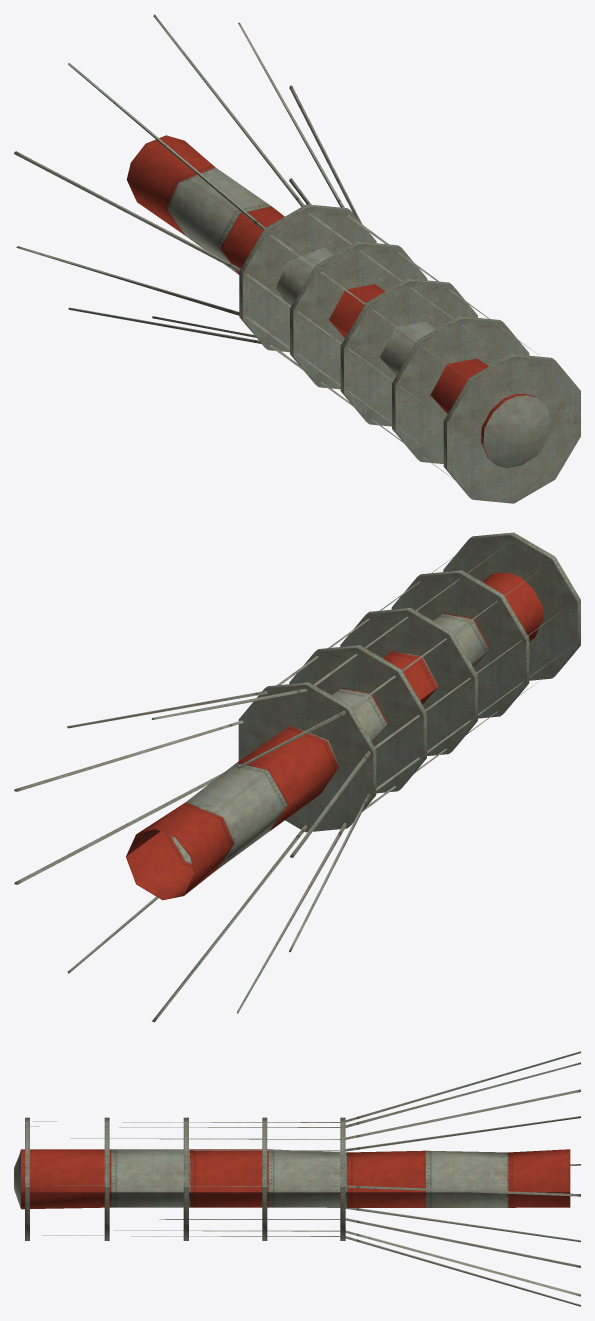
File: heizturm_LOD2.obj
3 renders of one model, top to bottom at view 1: azimuth 30°, elevation 25°; view 2: azimuth 150°, elevation 25°; view 3: azimuth 270°, elevation 25°, orthographic. The views are drawn at different scales.
Visible parts, largest first — view 1: MDL_Objec1; view 2: MDL_Objec1; view 3: MDL_Objec1.
Part boxes in pixels (x1,y1,x2,y2): MDL_Objec1: (14,14,580,503); MDL_Objec1: (14,532,580,1022); MDL_Objec1: (14,1051,580,1306).
Bounding box in the file's own units: 23.22 × 24.15 × 52.99.
2 materials, 2 textured.
